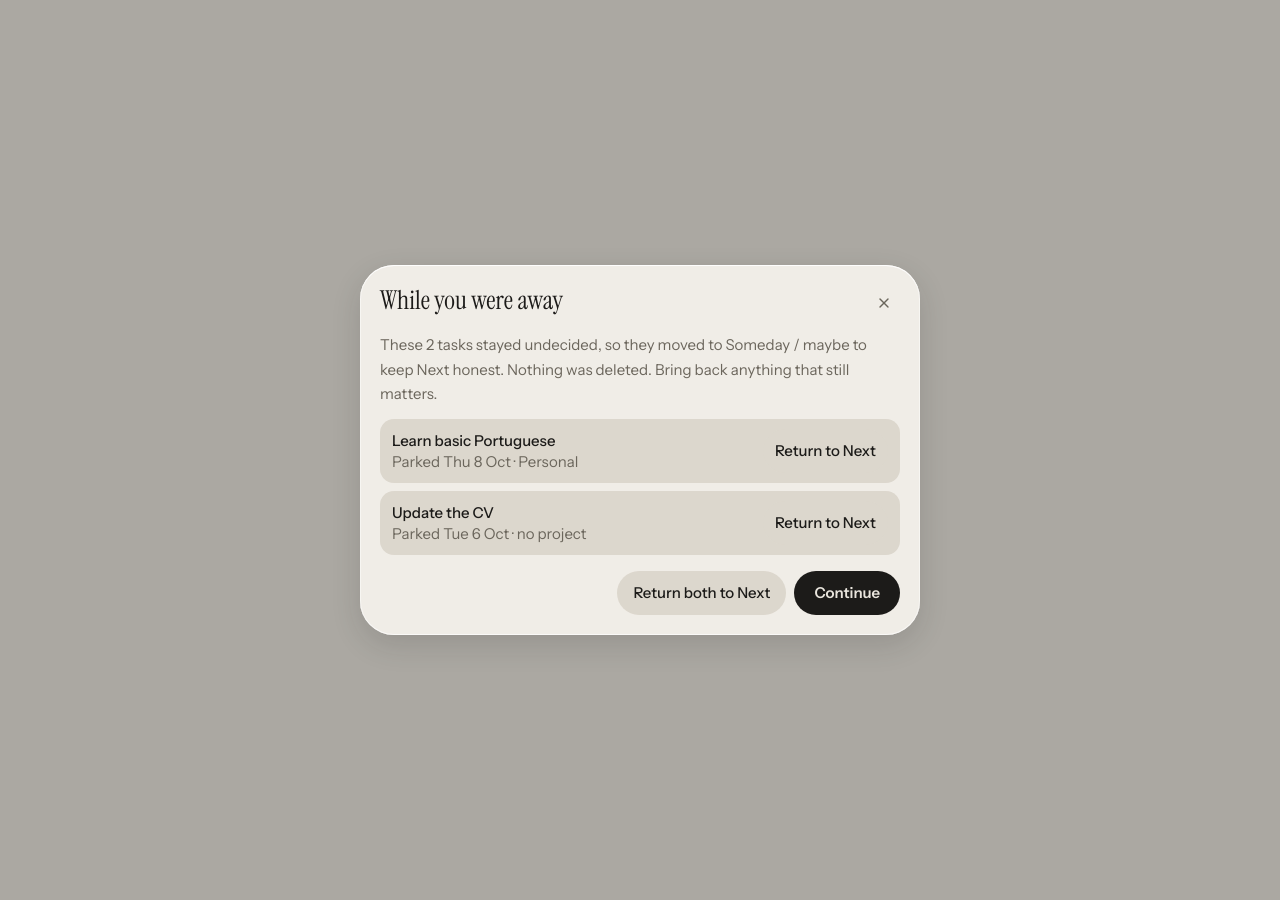
Test: 020-FR-015 While you were away dialog › 020-FR-015 a row this dialog returned stays shown as returned when the re-read after it fails
Click the button with aria-label "Return Update the CV to Next" at coordinates (825, 523), box left=763, top=501, right=888, bottom=545
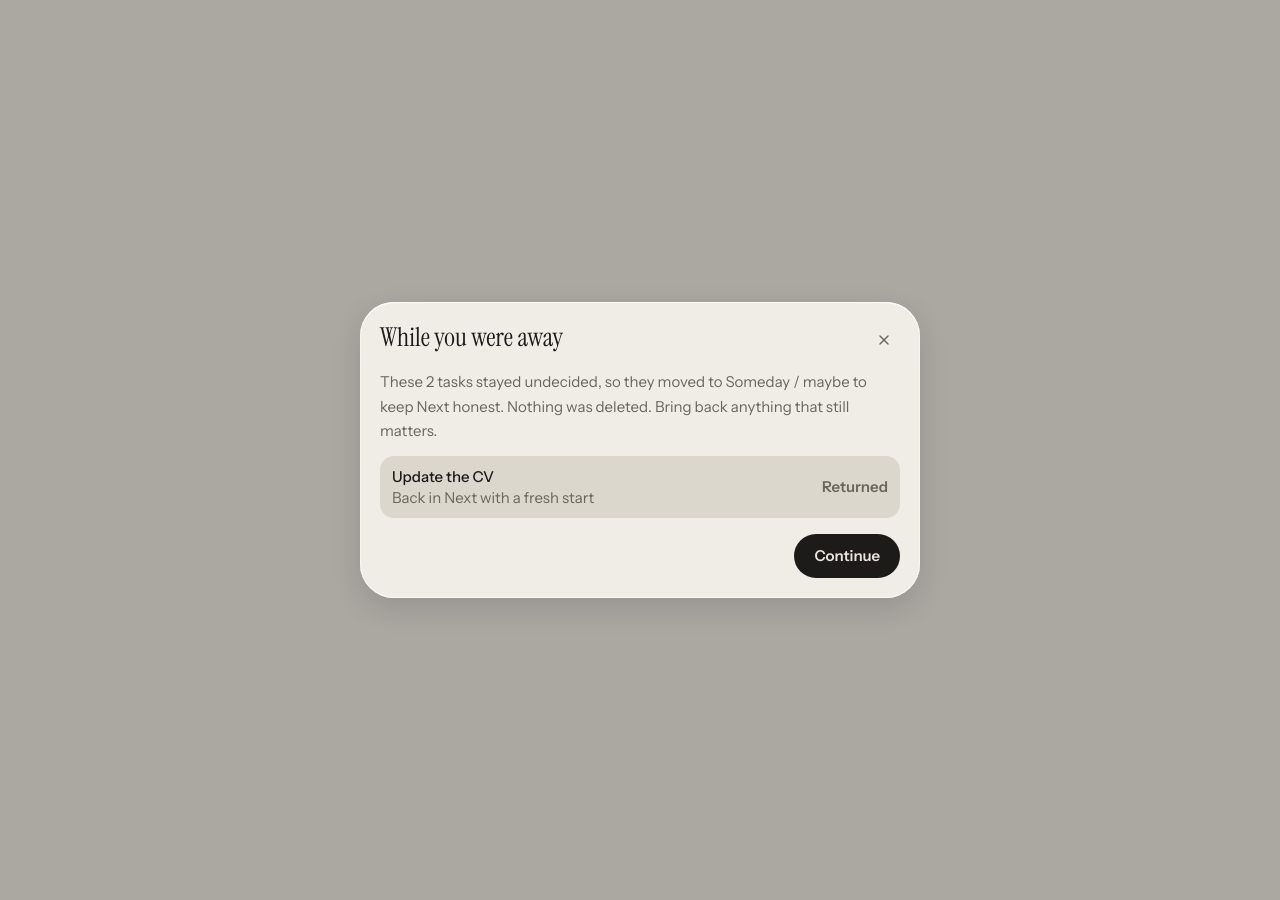
expect the text "Returned" is shown: met, box left=822, top=476, right=888, bottom=497
